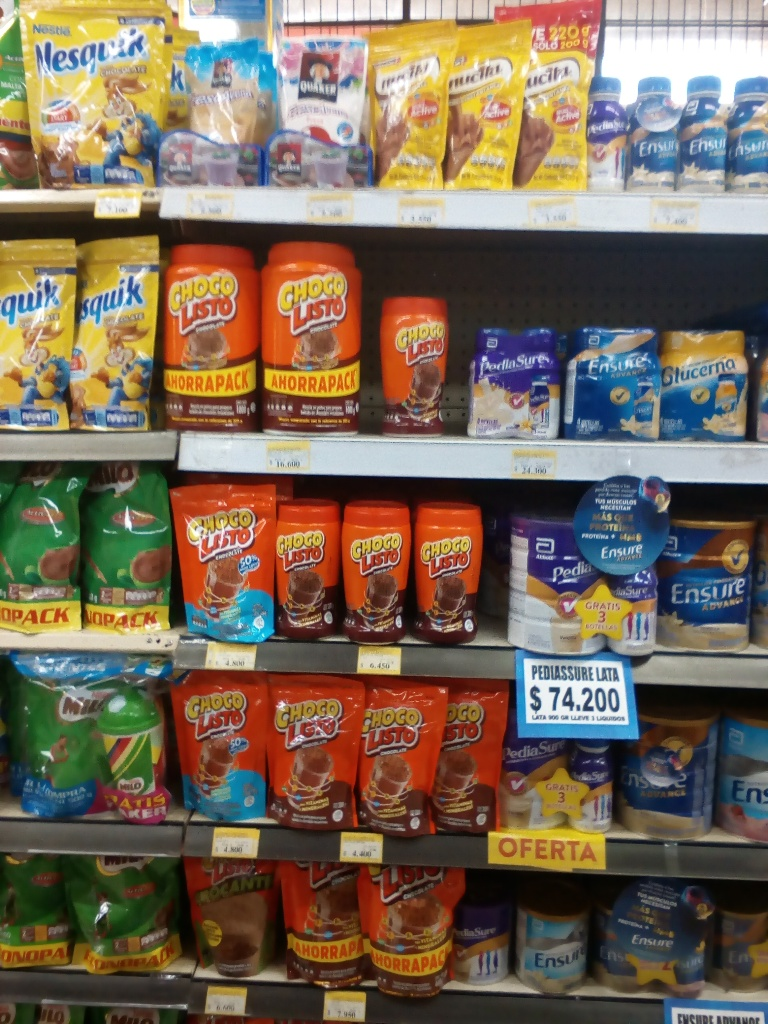COL0170102DYP50000: (179, 857, 275, 983)
COL0170103DYP44000: (270, 859, 372, 990)
COL0170103TRR00100: (160, 239, 261, 431)
COL0170104DYP20000: (166, 476, 275, 643)
COL0170203DYP50000: (65, 859, 178, 981)
COL0170205DYP50000: (0, 673, 111, 823)
COL0170303DYP20000: (15, 4, 163, 184)
COL0170306DYP20000: (2, 237, 69, 431)
